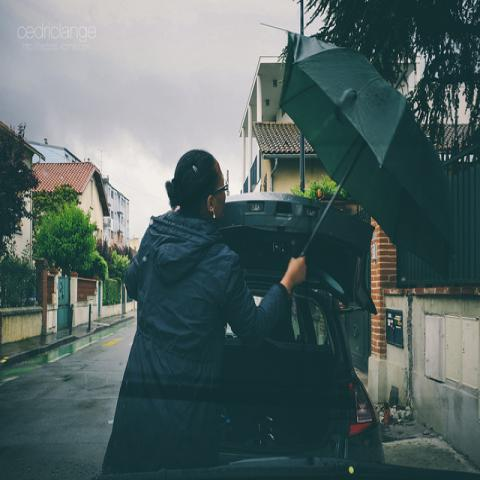car: (219, 194, 385, 466)
